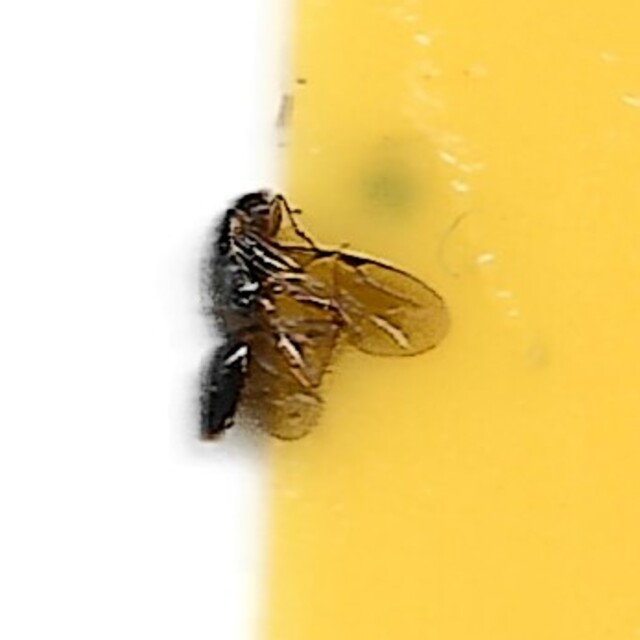Hymenoptera: (184, 177, 456, 463)
